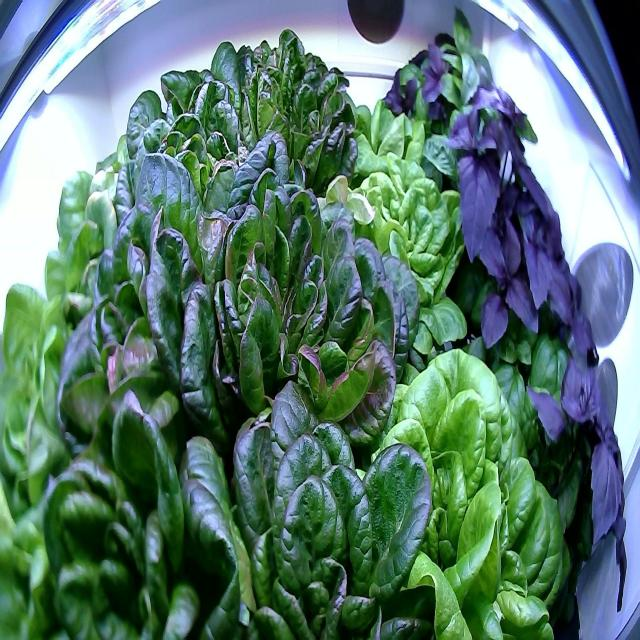Ready: (195, 123, 427, 472), (177, 336, 438, 640), (357, 331, 579, 640), (29, 361, 273, 640), (52, 143, 242, 492), (0, 269, 105, 640), (114, 26, 258, 280), (320, 150, 479, 371), (222, 24, 370, 243), (36, 142, 145, 310), (332, 86, 442, 203)
